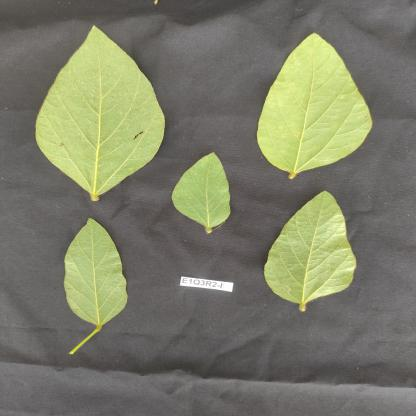label: (176, 273, 238, 303)
leaflets: (31, 18, 171, 215), (253, 27, 385, 178), (261, 191, 370, 319), (51, 214, 139, 336), (168, 153, 240, 233)
